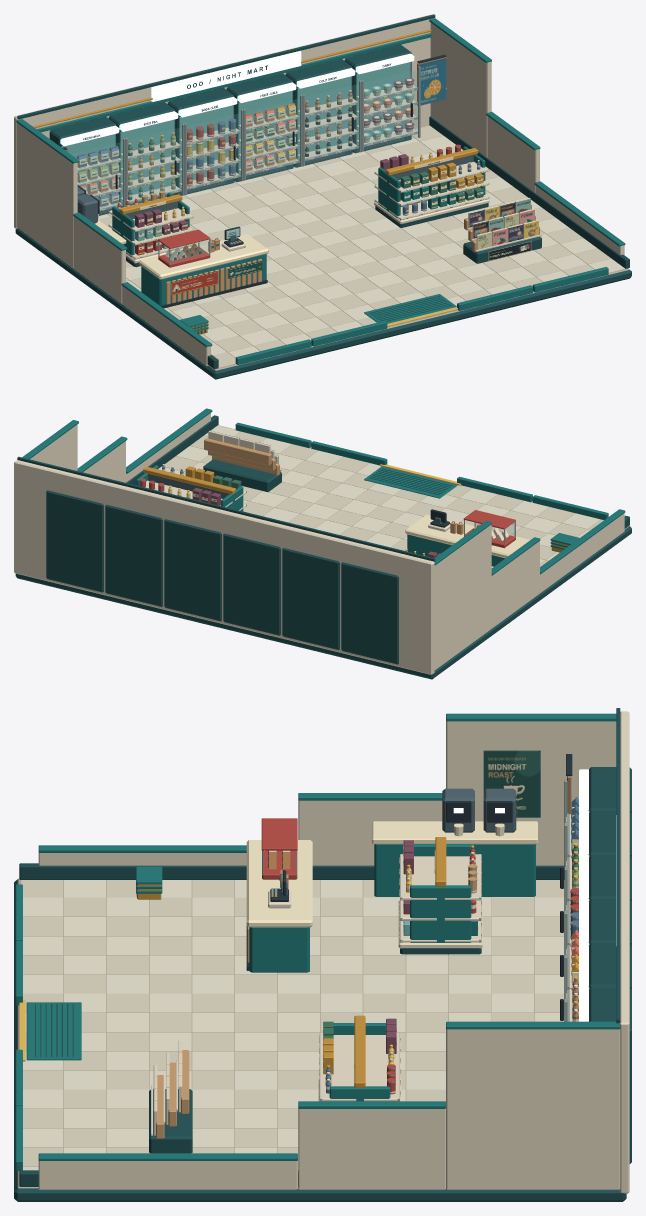
File: shop-interior.glb
3 renders of one model, top to bottom at view 1: azimuth 30°, elevation 25°; view 2: azimuth 150°, elevation 25°; view 3: azimuth 270°, elevation 25°, orthographic. The views are drawn at different scales.
Parts seen in each view (by area): view 1: Night Mart / cream, Night Mart / tile, Night Mart / floor, Night Mart / glass, Night Mart / petrol, Night Mart / teal, Night Mart / aqua, Night Mart / paper, Night Mart / tin, Night Mart / Screen printed food posters and periodicals, Night Mart / mintLight, Night Mart / mustard (+14 smaller); view 2: Night Mart / petrol, Night Mart / cream, Night Mart / floor, Night Mart / tile, Night Mart / teal, Night Mart / maple, Night Mart / paper, Night Mart / mustard, Night Mart / red, Night Mart / slate; view 3: Night Mart / cream, Night Mart / floor, Night Mart / tile, Night Mart / teal, Night Mart / petrol, Night Mart / paper, Night Mart / Screen printed food posters and periodicals, Night Mart / grout, Night Mart / mintLight, Night Mart / red, Night Mart / mustard, Night Mart / tin (+5 smaller).
Boxes of the visible parts, <box> form: Night Mart / cream: <box>14,14,624,366</box>; Night Mart / tile: <box>98,136,625,357</box>; Night Mart / floor: <box>99,125,610,368</box>; Night Mart / glass: <box>71,70,417,262</box>; Night Mart / petrol: <box>15,14,631,379</box>; Night Mart / teal: <box>16,18,625,364</box>; Night Mart / aqua: <box>61,62,414,248</box>; Night Mart / paper: <box>76,78,484,279</box>; Night Mart / tin: <box>77,66,489,264</box>; Night Mart / Screen printed food posters and periodicals: <box>66,58,538,295</box>; Night Mart / mintLight: <box>60,53,414,146</box>; Night Mart / mustard: <box>33,29,483,334</box>; Night Mart / petrol: <box>15,415,631,679</box>; Night Mart / cream: <box>14,413,624,674</box>; Night Mart / floor: <box>162,431,603,566</box>; Night Mart / tile: <box>158,425,600,563</box>; Night Mart / teal: <box>22,408,625,575</box>; Night Mart / maple: <box>204,438,463,534</box>; Night Mart / paper: <box>145,464,529,567</box>; Night Mart / mustard: <box>143,466,569,552</box>; Night Mart / red: <box>140,478,515,548</box>; Night Mart / slate: <box>148,474,442,524</box>; Night Mart / cream: <box>38,711,629,1193</box>; Night Mart / floor: <box>21,880,564,1166</box>; Night Mart / tile: <box>23,880,564,1170</box>; Night Mart / teal: <box>15,713,620,1170</box>; Night Mart / petrol: <box>14,708,631,1201</box>; Night Mart / paper: <box>246,807,578,1097</box>; Night Mart / Screen printed food posters and periodicals: <box>483,750,540,817</box>; Night Mart / grout: <box>17,878,534,1188</box>; Night Mart / mintLight: <box>453,769,589,1021</box>; Night Mart / red: <box>261,818,578,1094</box>; Night Mart / mustard: <box>137,837,446,1087</box>; Night Mart / tin: <box>262,780,578,1101</box>.
Bounding box in the file's own units: 14.02 × 3.84 × 11.7.
Materials: 30 (1 with a texture image).
